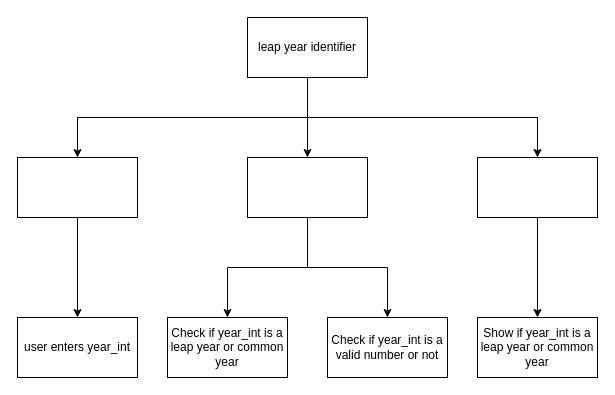
Image size: 615x395. Some labels were removed from this diagram. The shapes that lost their labels are listed below. From the top down, each one's box as (x1, y1, x2, y2) in pixels, then its label:
(16, 156, 138, 218): Input
(246, 156, 368, 218): Process
(476, 156, 598, 218): Output
